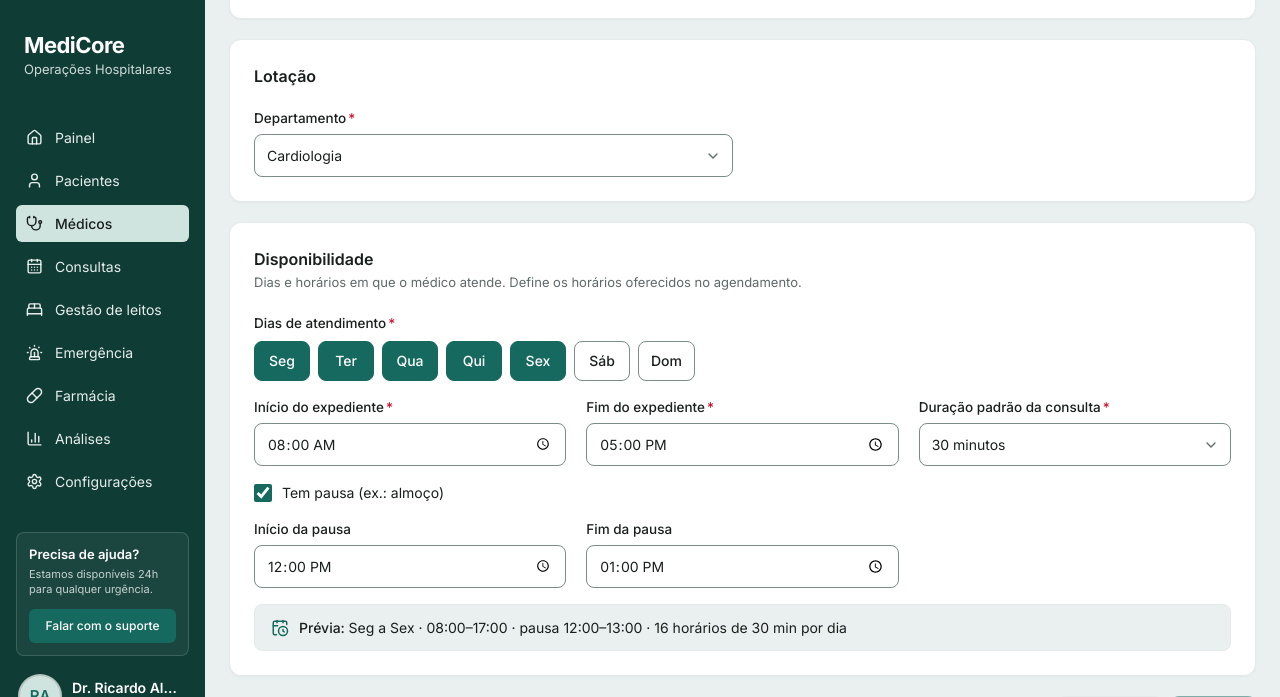
Edição (P7) › avisa as consultas que ficarão fora do novo horário antes de salvar
The width and height of the screenshot is (1280, 697).
(page scrolled)
Click the button with aria-label "Sex, sexta-feira" at x=538, y=361, box [510,341,566,381]
(page scrolled)
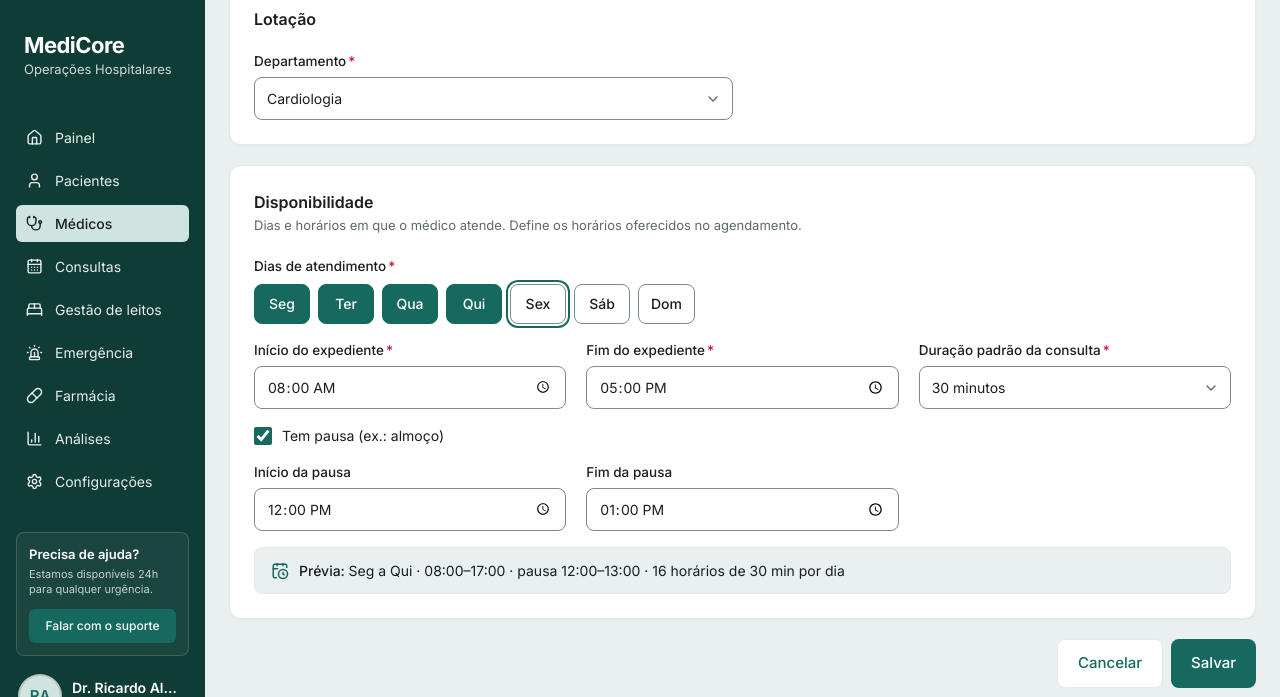
Click the button "Salvar" at x=1214, y=664, box [1171,639,1256,688]
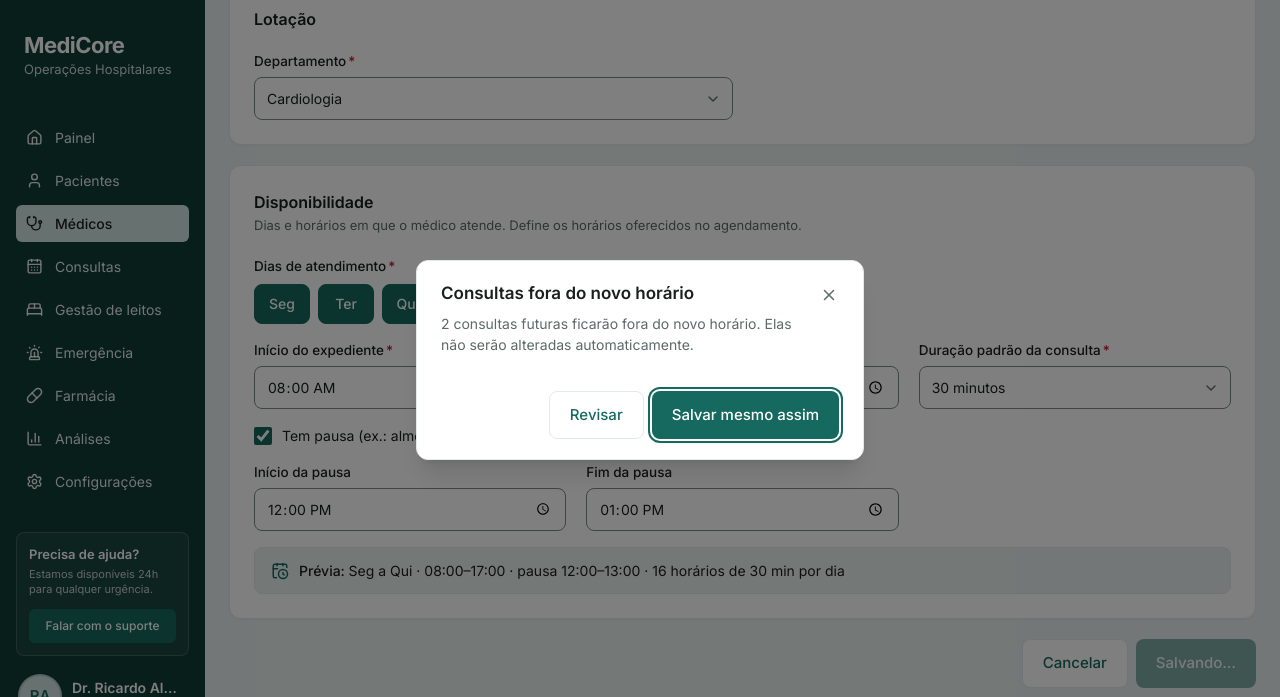
Click the button "Revisar" at x=596, y=415, box [549,390,644,439]
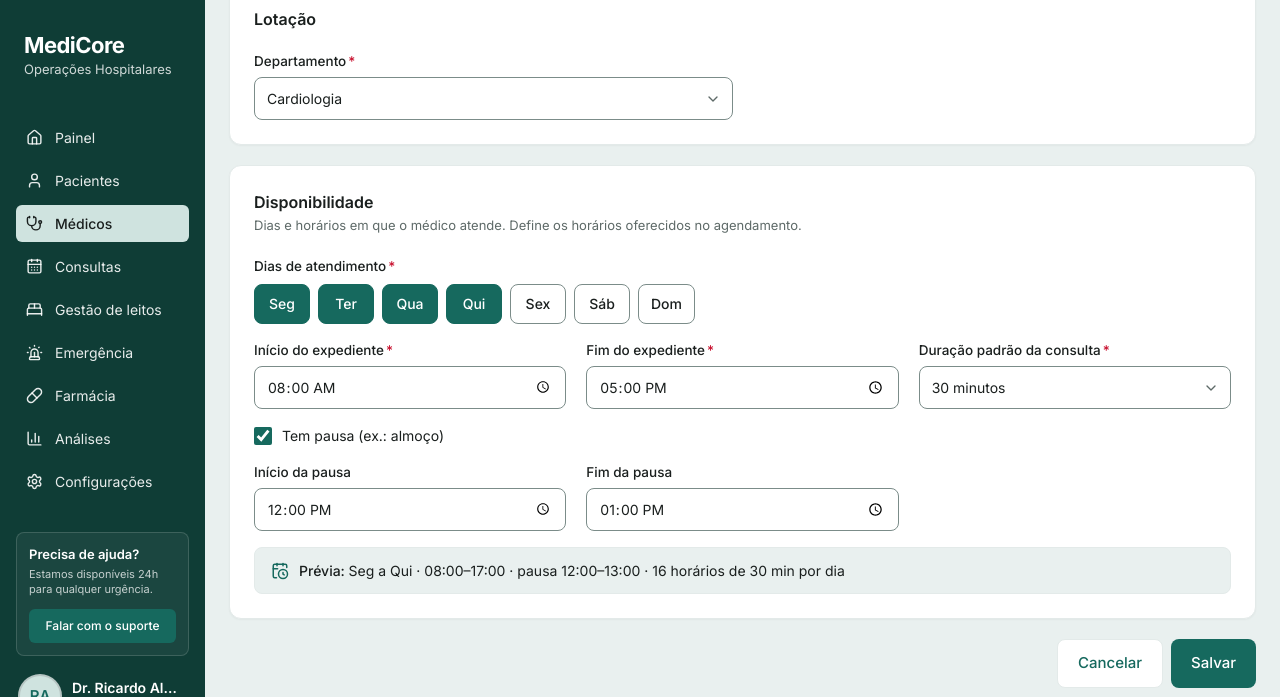
Click the button "Salvar" at x=1214, y=664, box [1171,639,1256,688]
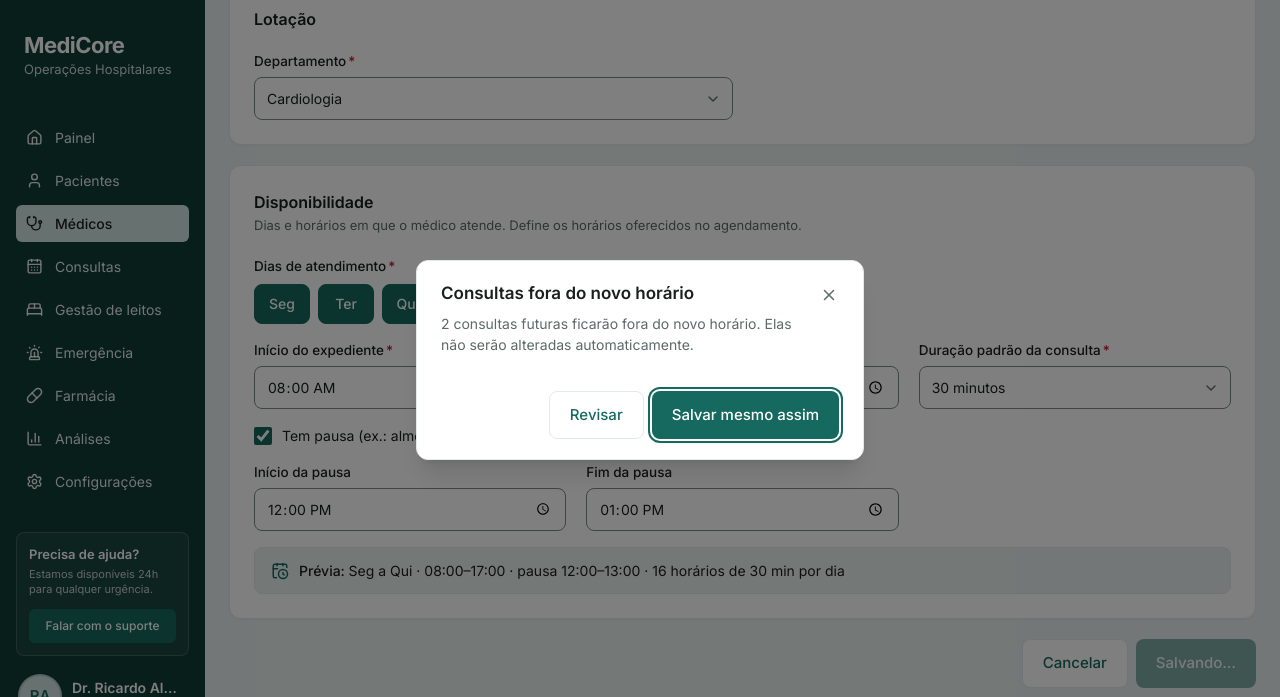
Click the button "Salvar mesmo assim" at x=745, y=415, box [652,390,839,439]
(page scrolled)
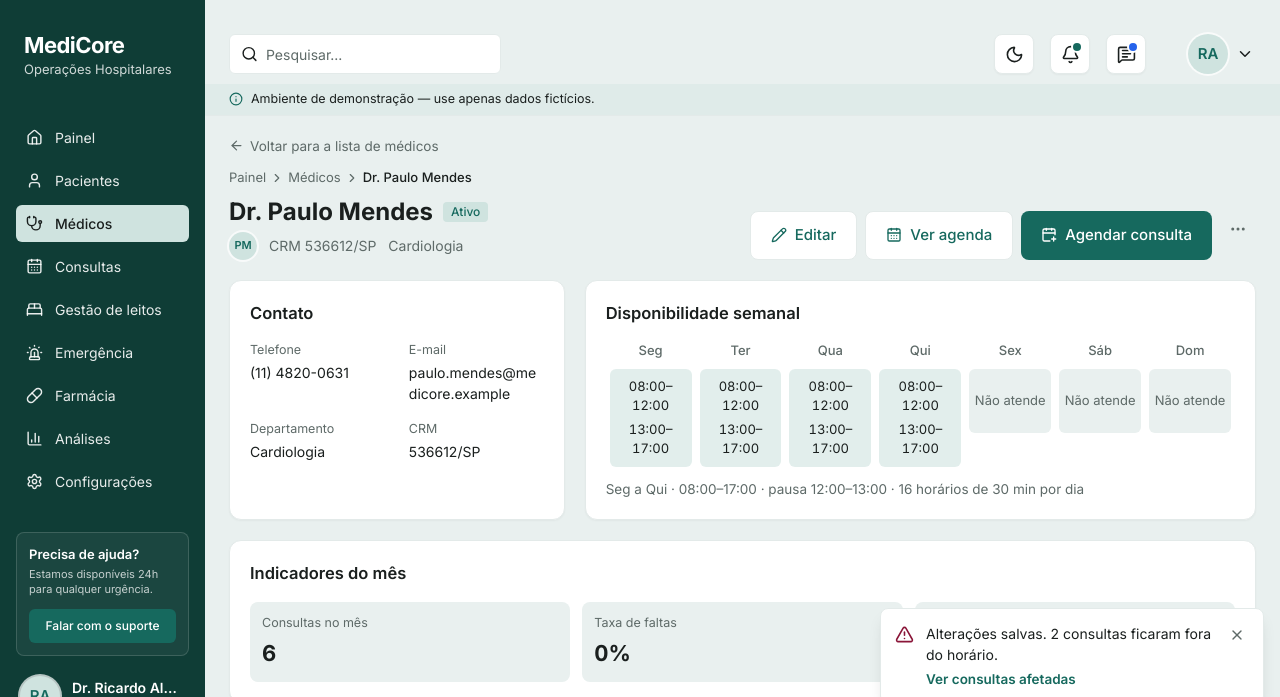
Now the text "Alterações salvas. 2 consultas ficaram fora do horário." is shown, box [926,623,1213,665]
Now the button "Ver consultas afetadas" is shown, box [926,669,1076,689]
